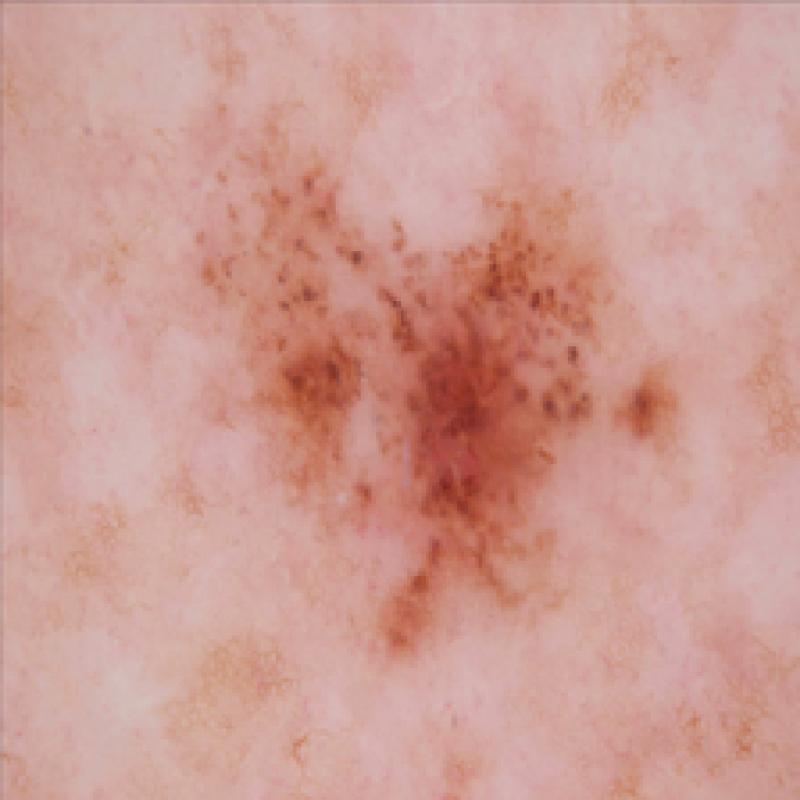benign: (190, 103, 712, 697)
